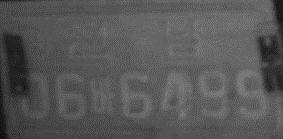0: (17, 71, 52, 122)
4: (160, 71, 191, 121)
6: (119, 69, 152, 120), (55, 72, 86, 121)
9: (234, 68, 268, 121), (197, 68, 230, 120)
바: (90, 74, 117, 117)
영: (21, 25, 55, 61)
전남_D: (61, 17, 205, 62)
